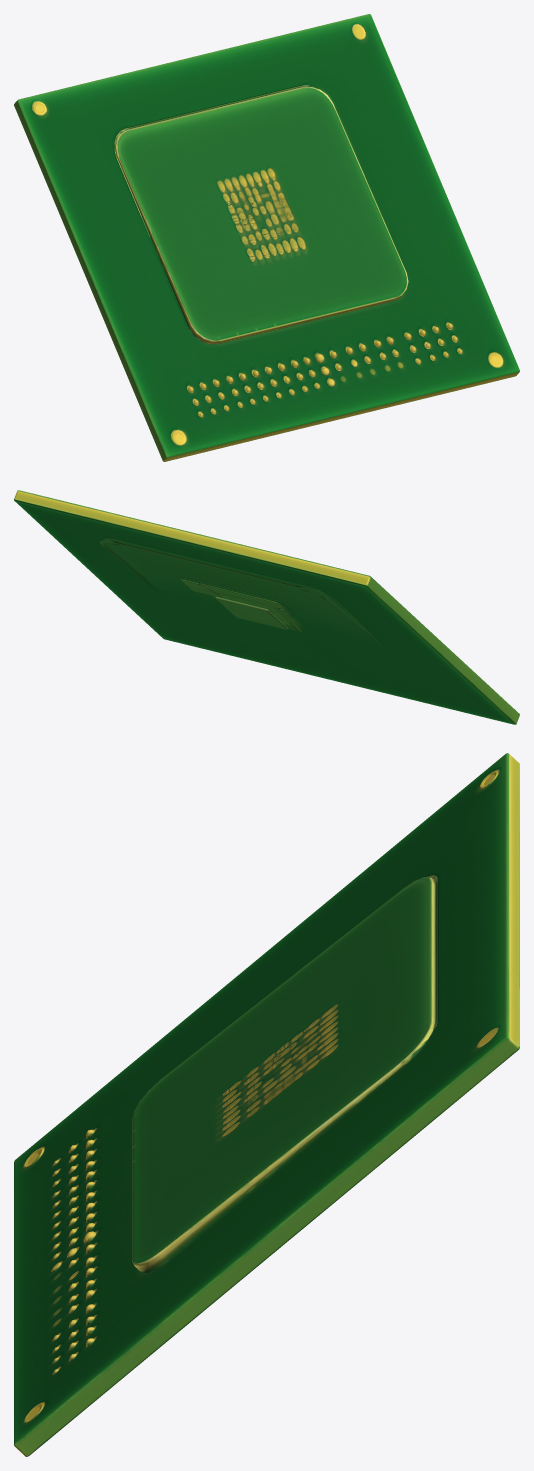
The model's file is chip.glb.
3 views of the same model, one above another, from view 1: azimuth 30°, elevation 25°; view 2: azimuth 150°, elevation 25°; view 3: azimuth 270°, elevation 25° (orthographic). The views are drawn at different scales.
Visible parts, largest first — view 1: tripo_node_3e36b6dc-d396-42d6-8fe9-000043f0ce8e; view 2: tripo_node_3e36b6dc-d396-42d6-8fe9-000043f0ce8e; view 3: tripo_node_3e36b6dc-d396-42d6-8fe9-000043f0ce8e.
Boxes of the visible parts, bbox=[...] form: tripo_node_3e36b6dc-d396-42d6-8fe9-000043f0ce8e: bbox=[14, 14, 519, 461]; tripo_node_3e36b6dc-d396-42d6-8fe9-000043f0ce8e: bbox=[14, 490, 519, 724]; tripo_node_3e36b6dc-d396-42d6-8fe9-000043f0ce8e: bbox=[14, 753, 519, 1456].
Size of the model in its own units: 1 by 0.6903 by 0.7509.
Materials: 1 (1 with a texture image).
